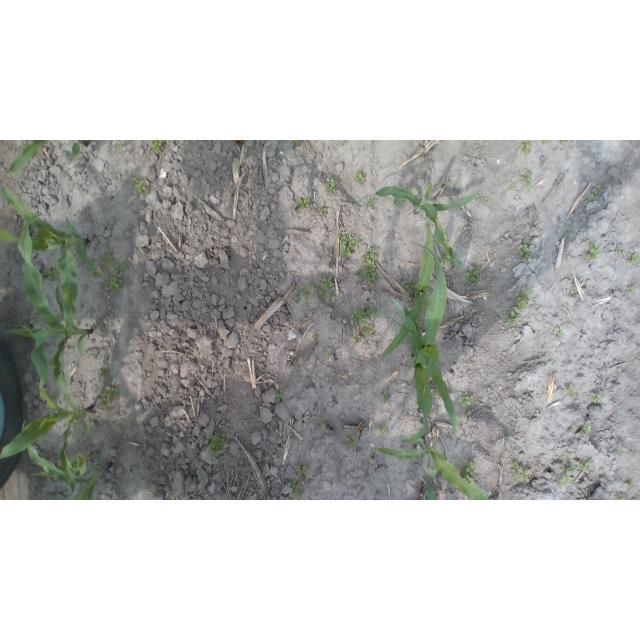Maize: (1, 214, 92, 410), (1, 183, 103, 339), (1, 324, 94, 494), (393, 242, 460, 433), (358, 182, 479, 268), (381, 216, 436, 357), (374, 438, 491, 500), (22, 421, 111, 500), (401, 304, 435, 445), (4, 141, 89, 176), (422, 482, 438, 500)
Weeds: (339, 230, 359, 258), (208, 432, 228, 458), (352, 305, 377, 324), (512, 459, 530, 483), (100, 387, 118, 410), (516, 289, 533, 312), (361, 248, 379, 269), (356, 268, 381, 282), (462, 457, 474, 484), (573, 420, 593, 435), (562, 453, 575, 476), (318, 276, 332, 297), (132, 177, 149, 194), (505, 308, 521, 326), (467, 266, 482, 285), (44, 266, 61, 282), (108, 275, 122, 293), (519, 170, 532, 189), (459, 392, 474, 408), (519, 243, 532, 261), (587, 244, 601, 260), (557, 475, 575, 487), (113, 264, 129, 277), (326, 177, 337, 195), (581, 458, 595, 472), (442, 251, 455, 266), (295, 460, 307, 476), (299, 284, 310, 301), (288, 480, 299, 497), (297, 197, 310, 211), (404, 279, 417, 293), (105, 252, 115, 268), (567, 384, 579, 397), (153, 140, 164, 154), (522, 140, 532, 154), (590, 190, 601, 202), (628, 253, 640, 264), (347, 435, 358, 447), (394, 197, 407, 207), (363, 324, 374, 335), (317, 418, 328, 429), (590, 394, 602, 403), (91, 461, 101, 471), (377, 426, 388, 435), (356, 172, 364, 184), (553, 328, 563, 337), (444, 178, 453, 188), (379, 392, 389, 401), (627, 285, 636, 295), (276, 391, 284, 402), (310, 281, 321, 288), (353, 335, 361, 344), (616, 446, 625, 454), (116, 140, 124, 148), (296, 364, 304, 372), (294, 292, 301, 301), (619, 493, 628, 500), (327, 347, 333, 357), (49, 492, 56, 500), (275, 152, 281, 161), (292, 140, 301, 146), (24, 322, 31, 329), (89, 269, 95, 277), (21, 140, 27, 148), (311, 332, 317, 340), (319, 204, 324, 213), (628, 481, 634, 488), (483, 197, 489, 204), (74, 207, 81, 213), (560, 140, 568, 145), (100, 369, 108, 374), (509, 183, 515, 189), (567, 227, 573, 233), (617, 245, 623, 251), (419, 153, 425, 159), (80, 244, 84, 252), (371, 200, 376, 205), (401, 184, 407, 188), (542, 141, 550, 144), (450, 332, 454, 337)
